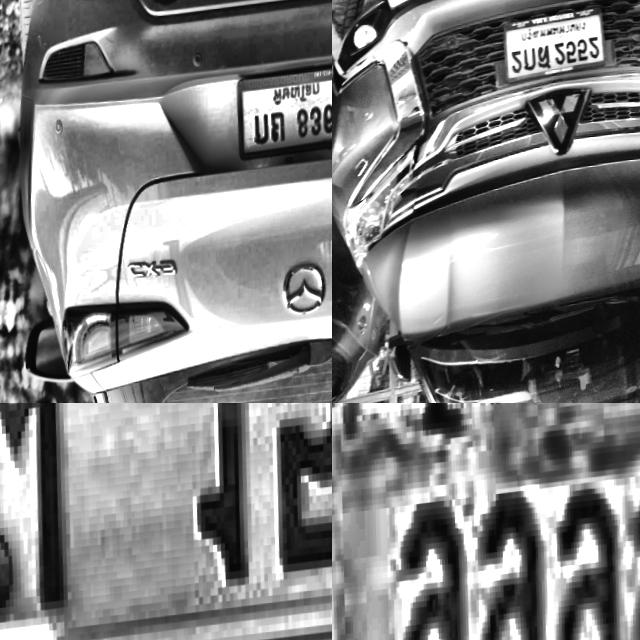license-plate: (0, 403, 332, 640), (332, 403, 640, 640), (235, 68, 332, 165), (500, 10, 613, 88)
